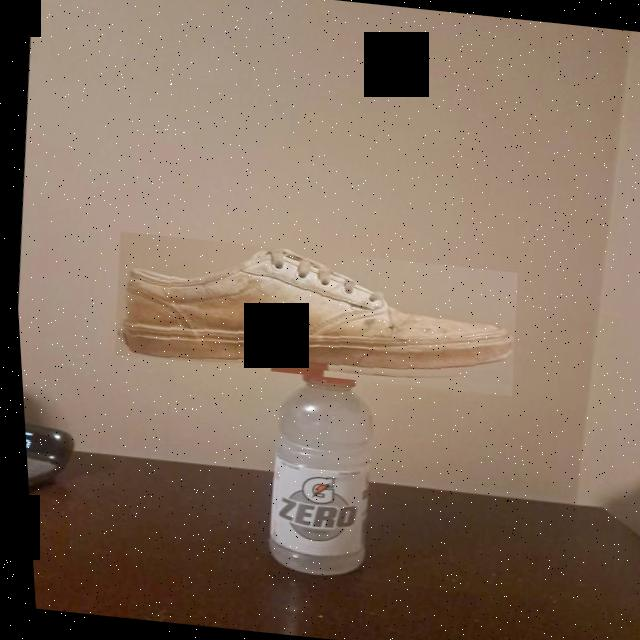shoe: (104, 231, 519, 396)
